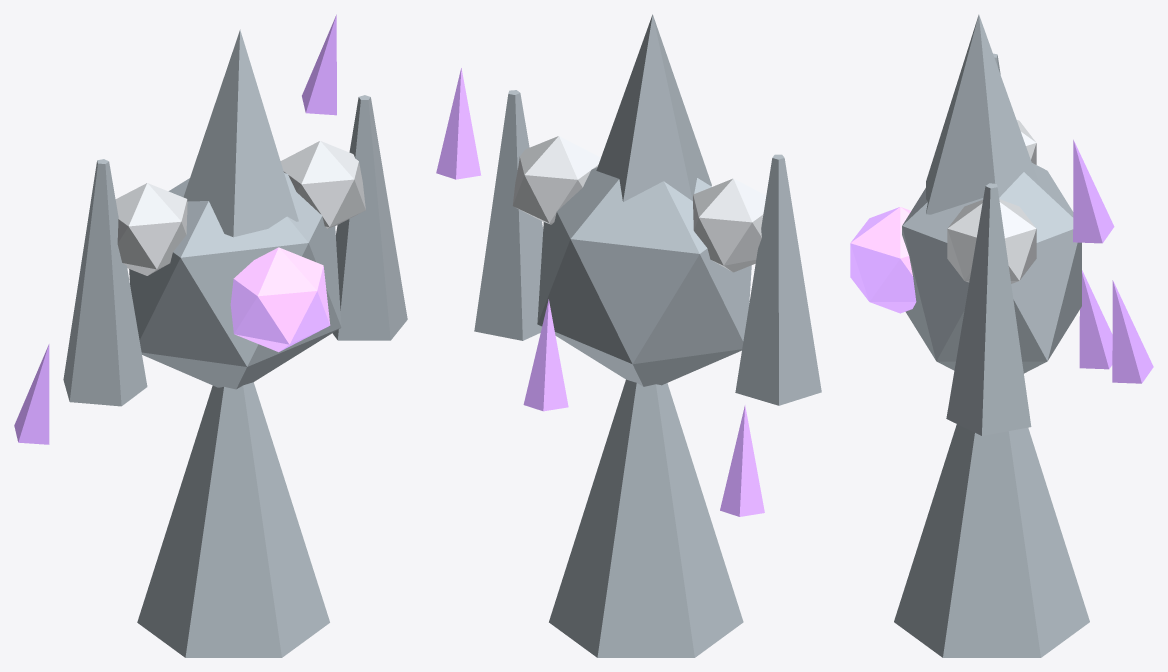
The model's file is npc_ice_elemental.glb.
The picture shows the model from 3 angles, left to right: view 1: azimuth 30°, elevation 25°; view 2: azimuth 150°, elevation 25°; view 3: azimuth 270°, elevation 25°; orthographic projection.
Visible parts, largest first — view 1: lower_shard, torso, arm_0.004, head_spire, arm_1.004, core, shoulder_0, shoulder_1, orbit_0, orbit_1; view 2: lower_shard, torso, arm_0.004, head_spire, arm_1.004, shoulder_0, shoulder_1, orbit_2, orbit_1, orbit_0; view 3: lower_shard, torso, arm_1.004, head_spire, core, shoulder_1, orbit_2, orbit_1, orbit_0.
Boxes of the visible parts, x1,y1,x2,y2 form: lower_shard: (137, 382, 329, 657); torso: (129, 172, 341, 389); arm_0.004: (63, 159, 147, 406); head_spire: (183, 29, 298, 237); arm_1.004: (332, 95, 407, 340); core: (230, 247, 330, 352); shoulder_0: (115, 183, 187, 275); shoulder_1: (280, 141, 365, 228); orbit_0: (14, 344, 49, 444); orbit_1: (302, 14, 336, 115); lower_shard: (549, 379, 743, 657); torso: (537, 167, 751, 386); arm_0.004: (735, 154, 821, 405); head_spire: (596, 14, 711, 201); arm_1.004: (474, 90, 543, 340); shoulder_0: (693, 178, 766, 272); shoulder_1: (512, 136, 600, 224); orbit_2: (523, 299, 568, 411); orbit_1: (436, 68, 481, 179); orbit_0: (720, 405, 764, 516); lower_shard: (894, 424, 1089, 657); torso: (902, 163, 1081, 373); arm_1.004: (946, 183, 1031, 435); head_spire: (926, 14, 1038, 214); core: (850, 207, 916, 313); shoulder_1: (947, 199, 1036, 283); orbit_2: (1112, 280, 1153, 383); orbit_1: (1073, 139, 1114, 243); orbit_0: (1079, 270, 1112, 369).
Bounding box in the file's own units: 1.21 × 2.05 × 0.9274.
